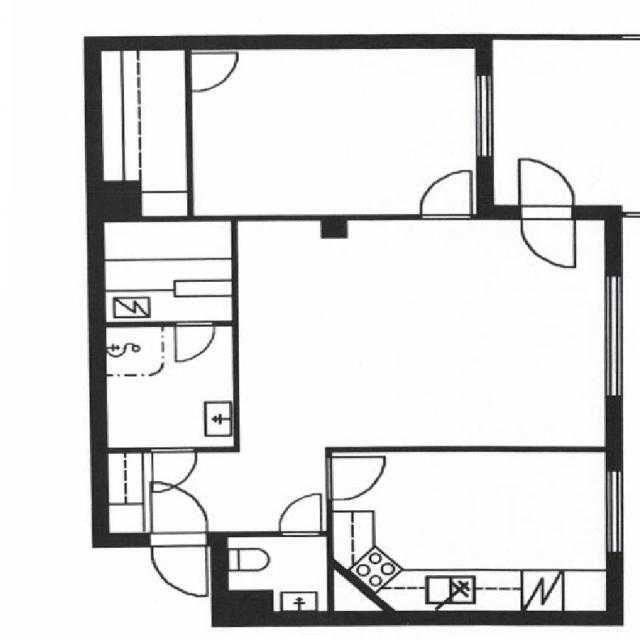door: (150, 532, 207, 594), (150, 484, 207, 546), (520, 158, 574, 220), (520, 205, 574, 267), (419, 170, 472, 220), (326, 456, 383, 500), (186, 52, 239, 90), (151, 447, 196, 491), (174, 321, 215, 360), (280, 498, 321, 536)
